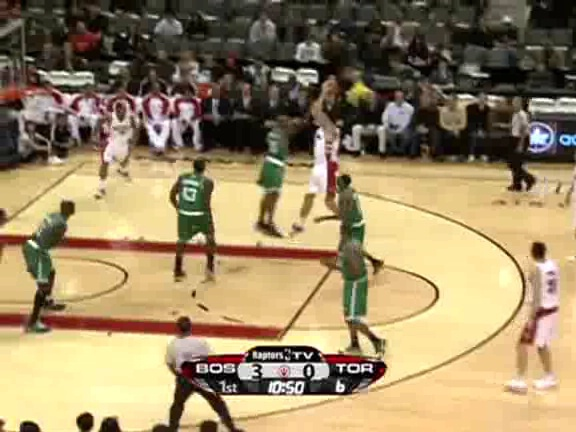person: (335, 179, 369, 260), (334, 179, 368, 260), (336, 179, 370, 260), (335, 178, 369, 259), (335, 180, 369, 261)
target_negative: (296, 168, 476, 395), (56, 251, 430, 307), (24, 291, 129, 421), (189, 362, 358, 423), (312, 124, 336, 392), (57, 97, 73, 326)
